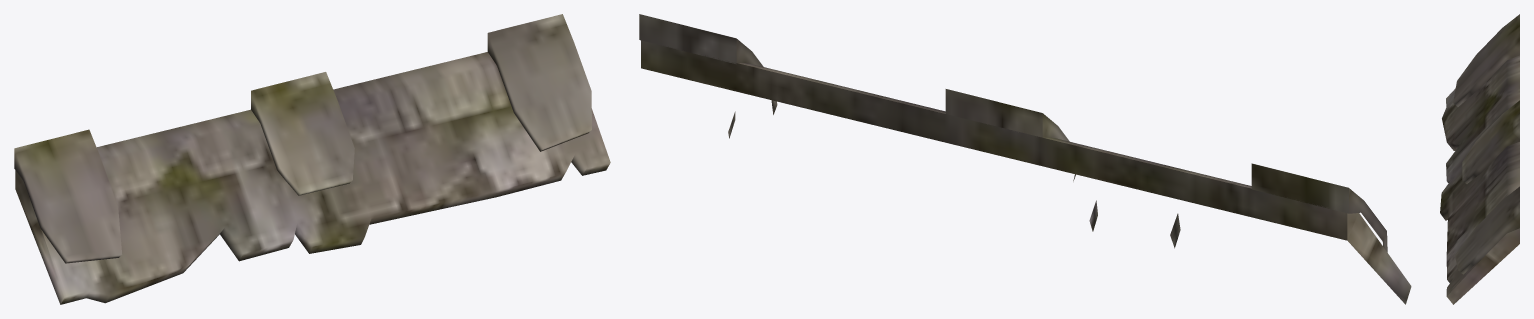
Rendered from roof.wood.top.line.glb.
The picture shows the model from 3 angles, left to right: view 1: azimuth 30°, elevation 25°; view 2: azimuth 150°, elevation 25°; view 3: azimuth 270°, elevation 25°; orthographic projection. The views are drawn at different scales.
Visible parts, largest first — view 1: LOD0; view 2: LOD0; view 3: LOD0.
Boxes of the visible parts, <box> form: LOD0: <box>14,14,610,304</box>; LOD0: <box>639,14,1411,304</box>; LOD0: <box>1440,14,1519,304</box>.
Bounding box in the file's own units: 3.01 × 0.6983 × 0.5101.
Materials: 1 (1 with a texture image).
